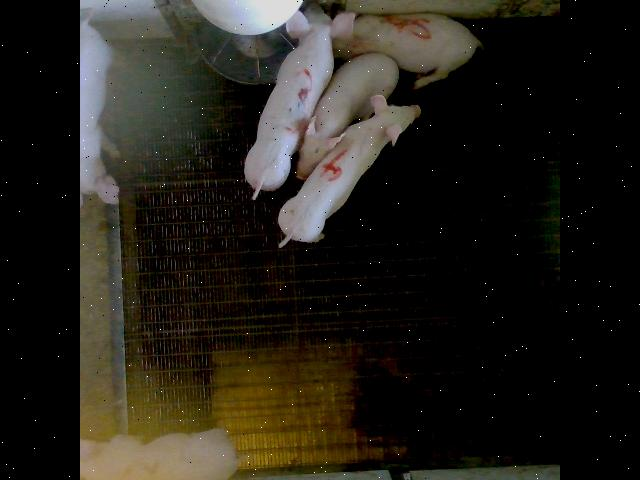pig-1: (80, 18, 119, 202)
pig-2: (81, 428, 238, 480)
pig-3: (245, 2, 354, 198)
pig-4: (279, 94, 421, 246)
pig-5: (333, 12, 484, 89)
